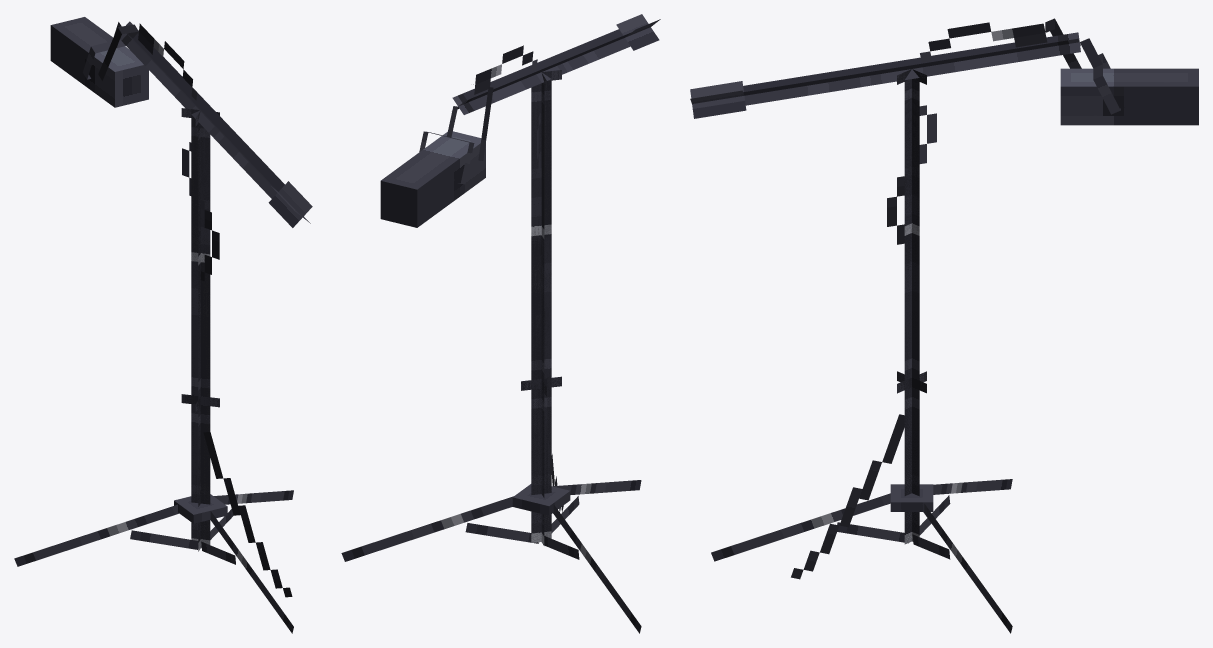
Rendered from microphone_stand_stage_tripod_boom_0.obj.
3 renders of one model, left to right at view 1: azimuth 30°, elevation 25°; view 2: azimuth 150°, elevation 25°; view 3: azimuth 270°, elevation 25°, orthographic. The views are drawn at different scales.
Parts seen in each view (by area): view 1: cube, blur_bm7b, cable, leg, support, fixed_base; view 2: cube, blur_bm7b, leg, cable, support, fixed_base; view 3: cube, blur_bm7b, cable, leg, support, fixed_base.
Boxes of the visible parts, x1=… form: cube: x1=82, y1=21, x2=312, y2=551; blur_bm7b: x1=50, y1=17, x2=148, y2=107; cable: x1=98, y1=23, x2=292, y2=597; leg: x1=14, y1=490, x2=293, y2=633; support: x1=130, y1=509, x2=235, y2=564; fixed_base: x1=174, y1=494, x2=227, y2=523; cube: x1=419, y1=14, x2=660, y2=545; blur_bm7b: x1=380, y1=131, x2=485, y2=227; leg: x1=341, y1=480, x2=641, y2=633; cable: x1=473, y1=45, x2=563, y2=512; support: x1=465, y1=496, x2=579, y2=559; fixed_base: x1=512, y1=484, x2=570, y2=515; cube: x1=690, y1=32, x2=1120, y2=544; blur_bm7b: x1=1060, y1=68, x2=1198, y2=125; cable: x1=791, y1=18, x2=1081, y2=579; leg: x1=711, y1=479, x2=1012, y2=633; support: x1=837, y1=495, x2=950, y2=559; fixed_base: x1=890, y1=484, x2=933, y2=511.
Bounding box in the file's own units: 1.02 × 1.83 × 1.49.
